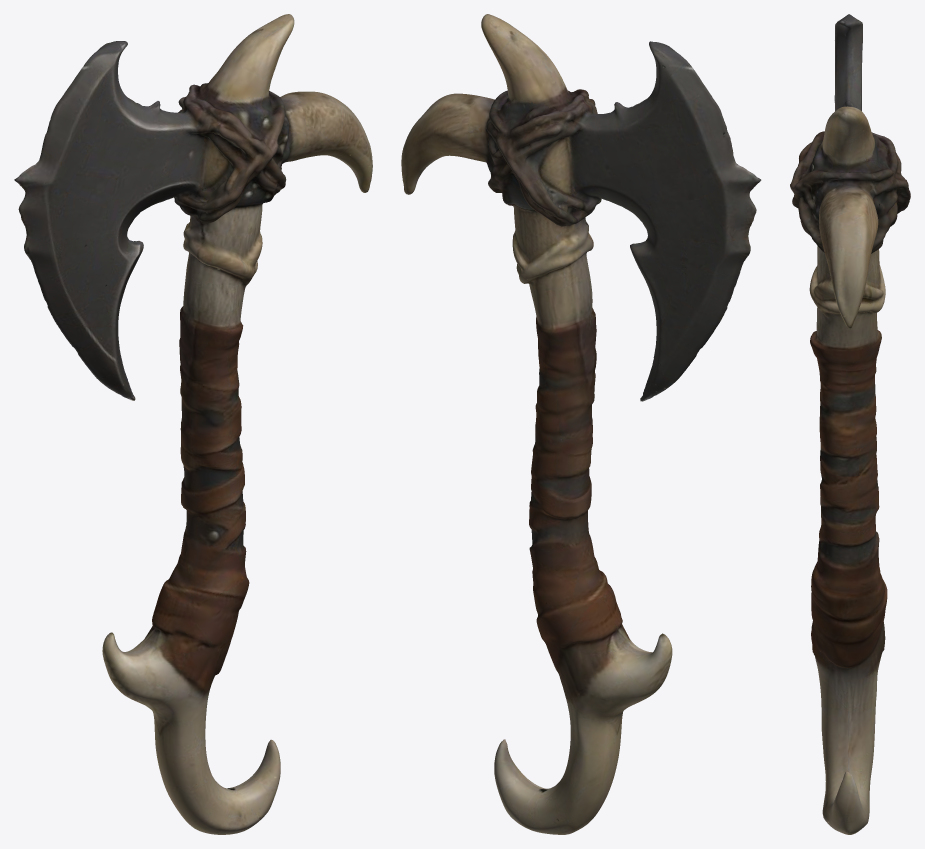
Rendered from PF_Axe7.glb.
The picture shows the model from 3 angles, left to right: view 1: azimuth 30°, elevation 25°; view 2: azimuth 150°, elevation 25°; view 3: azimuth 270°, elevation 25°; orthographic projection. The views are drawn at different scales.
Size of the model in its own units: 0.9143 by 1.99 by 0.2891.
1 material, 1 textured.
